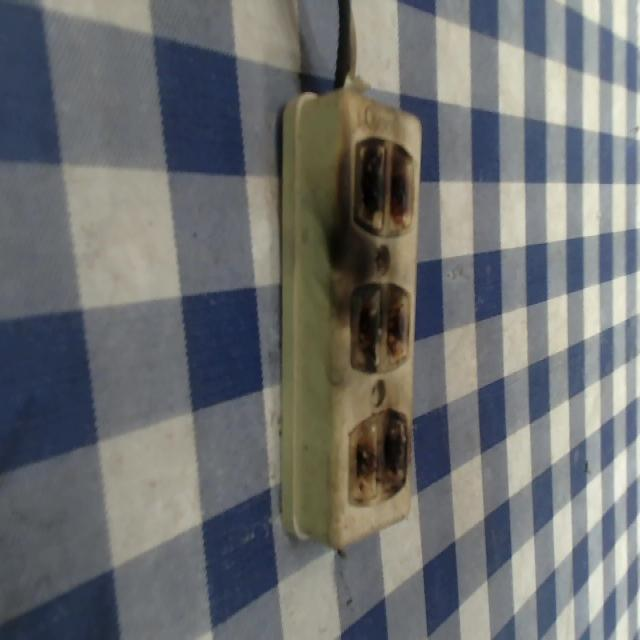-: (345, 404, 413, 505), (349, 131, 415, 233), (347, 277, 412, 373)
